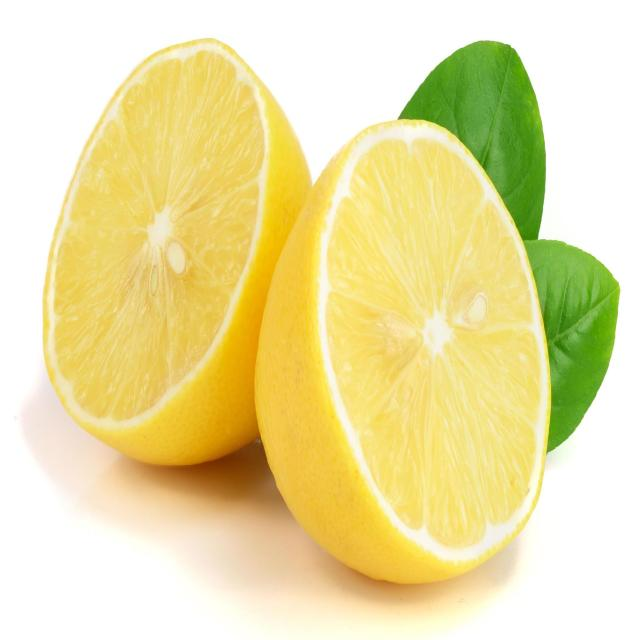lemon: (248, 108, 561, 602), (34, 24, 326, 483)
